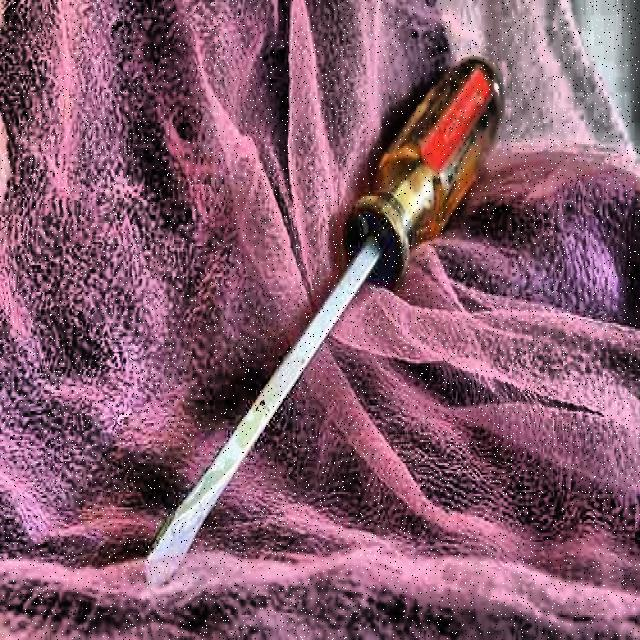screwdriver: (148, 53, 507, 584)
